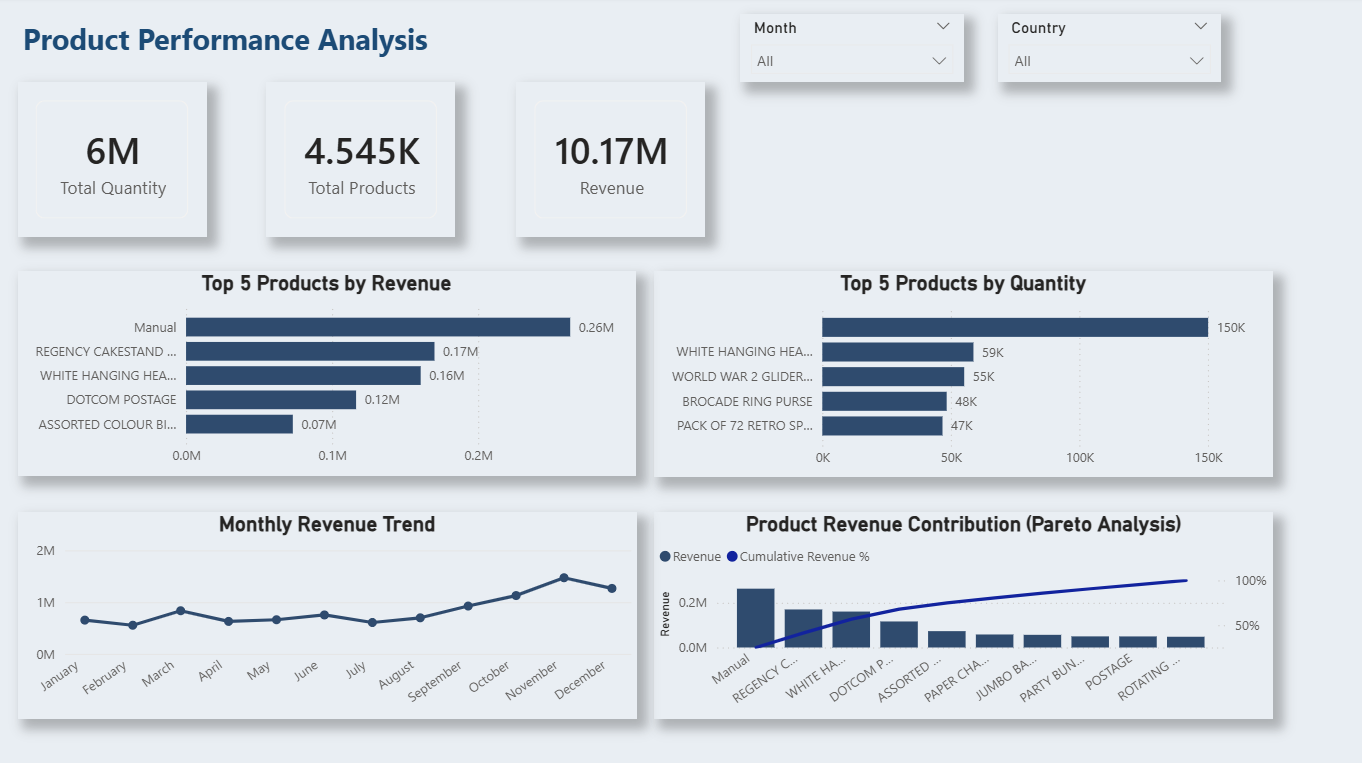

The page's visual inventory and layout, read from the dashboard file:
{"tool":"powerbi","page":{"name":"Product Analysis","canvas":[1280,720],"ordinal":1},"visuals":[{"type":"barChart","title":"Top 5 Products by Revenue","fields":{"Category":["retail_powerbi_data.Description"],"Y":["Sum(retail_powerbi_data.Revenue)"]},"box":[16,256,575,190],"z":0},{"type":"barChart","title":"Top 5 Products by Quantity","fields":{"Category":["retail_powerbi_data.Description"],"Y":["Sum(retail_powerbi_data.Quantity)"]},"box":[608,256,576,192],"z":1000},{"type":"lineChart","title":"Monthly Revenue Trend","fields":{"Category":["retail_powerbi_data.Month.Variation.Date Hierarchy.Month"],"Y":["Sum(retail_powerbi_data.Revenue)"]},"box":[16,480,576,192],"z":2000},{"type":"slicer","fields":{"Values":["retail_powerbi_data.Country"]},"box":[928,16,208,64],"z":3000},{"type":"slicer","fields":{"Values":["retail_powerbi_data.Month"]},"box":[688,16,208,64],"z":4000},{"type":"lineClusteredColumnComboChart","title":"Product Revenue Contribution (Pareto Analysis)","fields":{"Category":["retail_powerbi_data.Description"],"Y":["Sum(retail_powerbi_data.Revenue)"],"Y2":["Key Measures.Cumulative Revenue %"]},"box":[608,480,576,192],"z":5000},{"type":"textbox","box":[16,16,400,48],"z":6000},{"type":"cardVisual","fields":{"Data":["Sum(retail_powerbi_data.Quantity)"]},"box":[16,80,176,144],"z":7000},{"type":"cardVisual","fields":{"Data":["Count(retail_powerbi_data.Description)"]},"box":[248,80,176,144],"z":8000},{"type":"cardVisual","fields":{"Data":["Sum(retail_powerbi_data.Revenue)"]},"box":[480,80,176,144],"z":9000}]}

Visuals, with their boxes in screenshot pixels (x1, y1, x2, y2), scaled from the page's 1280x720 canvas onto the 1362x763 screenshot:
"Top 5 Products by Revenue" barChart: (left=17, top=271, right=629, bottom=473)
"Top 5 Products by Quantity" barChart: (left=647, top=271, right=1260, bottom=475)
"Monthly Revenue Trend" lineChart: (left=17, top=509, right=630, bottom=712)
slicer - retail_powerbi_data.Country: (left=987, top=17, right=1209, bottom=85)
slicer - retail_powerbi_data.Month: (left=732, top=17, right=953, bottom=85)
"Product Revenue Contribution (Pareto Analysis)" lineClusteredColumnComboChart: (left=647, top=509, right=1260, bottom=712)
textbox: (left=17, top=17, right=443, bottom=68)
cardVisual - Sum(retail_powerbi_data.Quantity): (left=17, top=85, right=204, bottom=237)
cardVisual - Count(retail_powerbi_data.Description): (left=264, top=85, right=451, bottom=237)
cardVisual - Sum(retail_powerbi_data.Revenue): (left=511, top=85, right=698, bottom=237)
